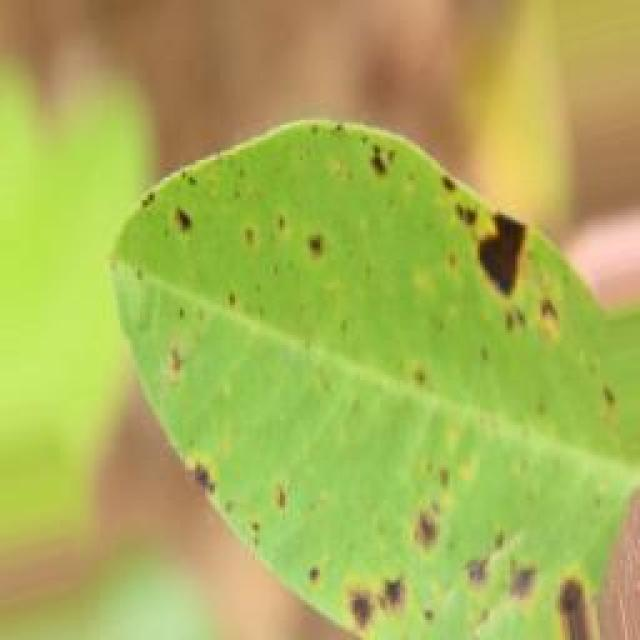Yellowish: (78, 130, 632, 640)
